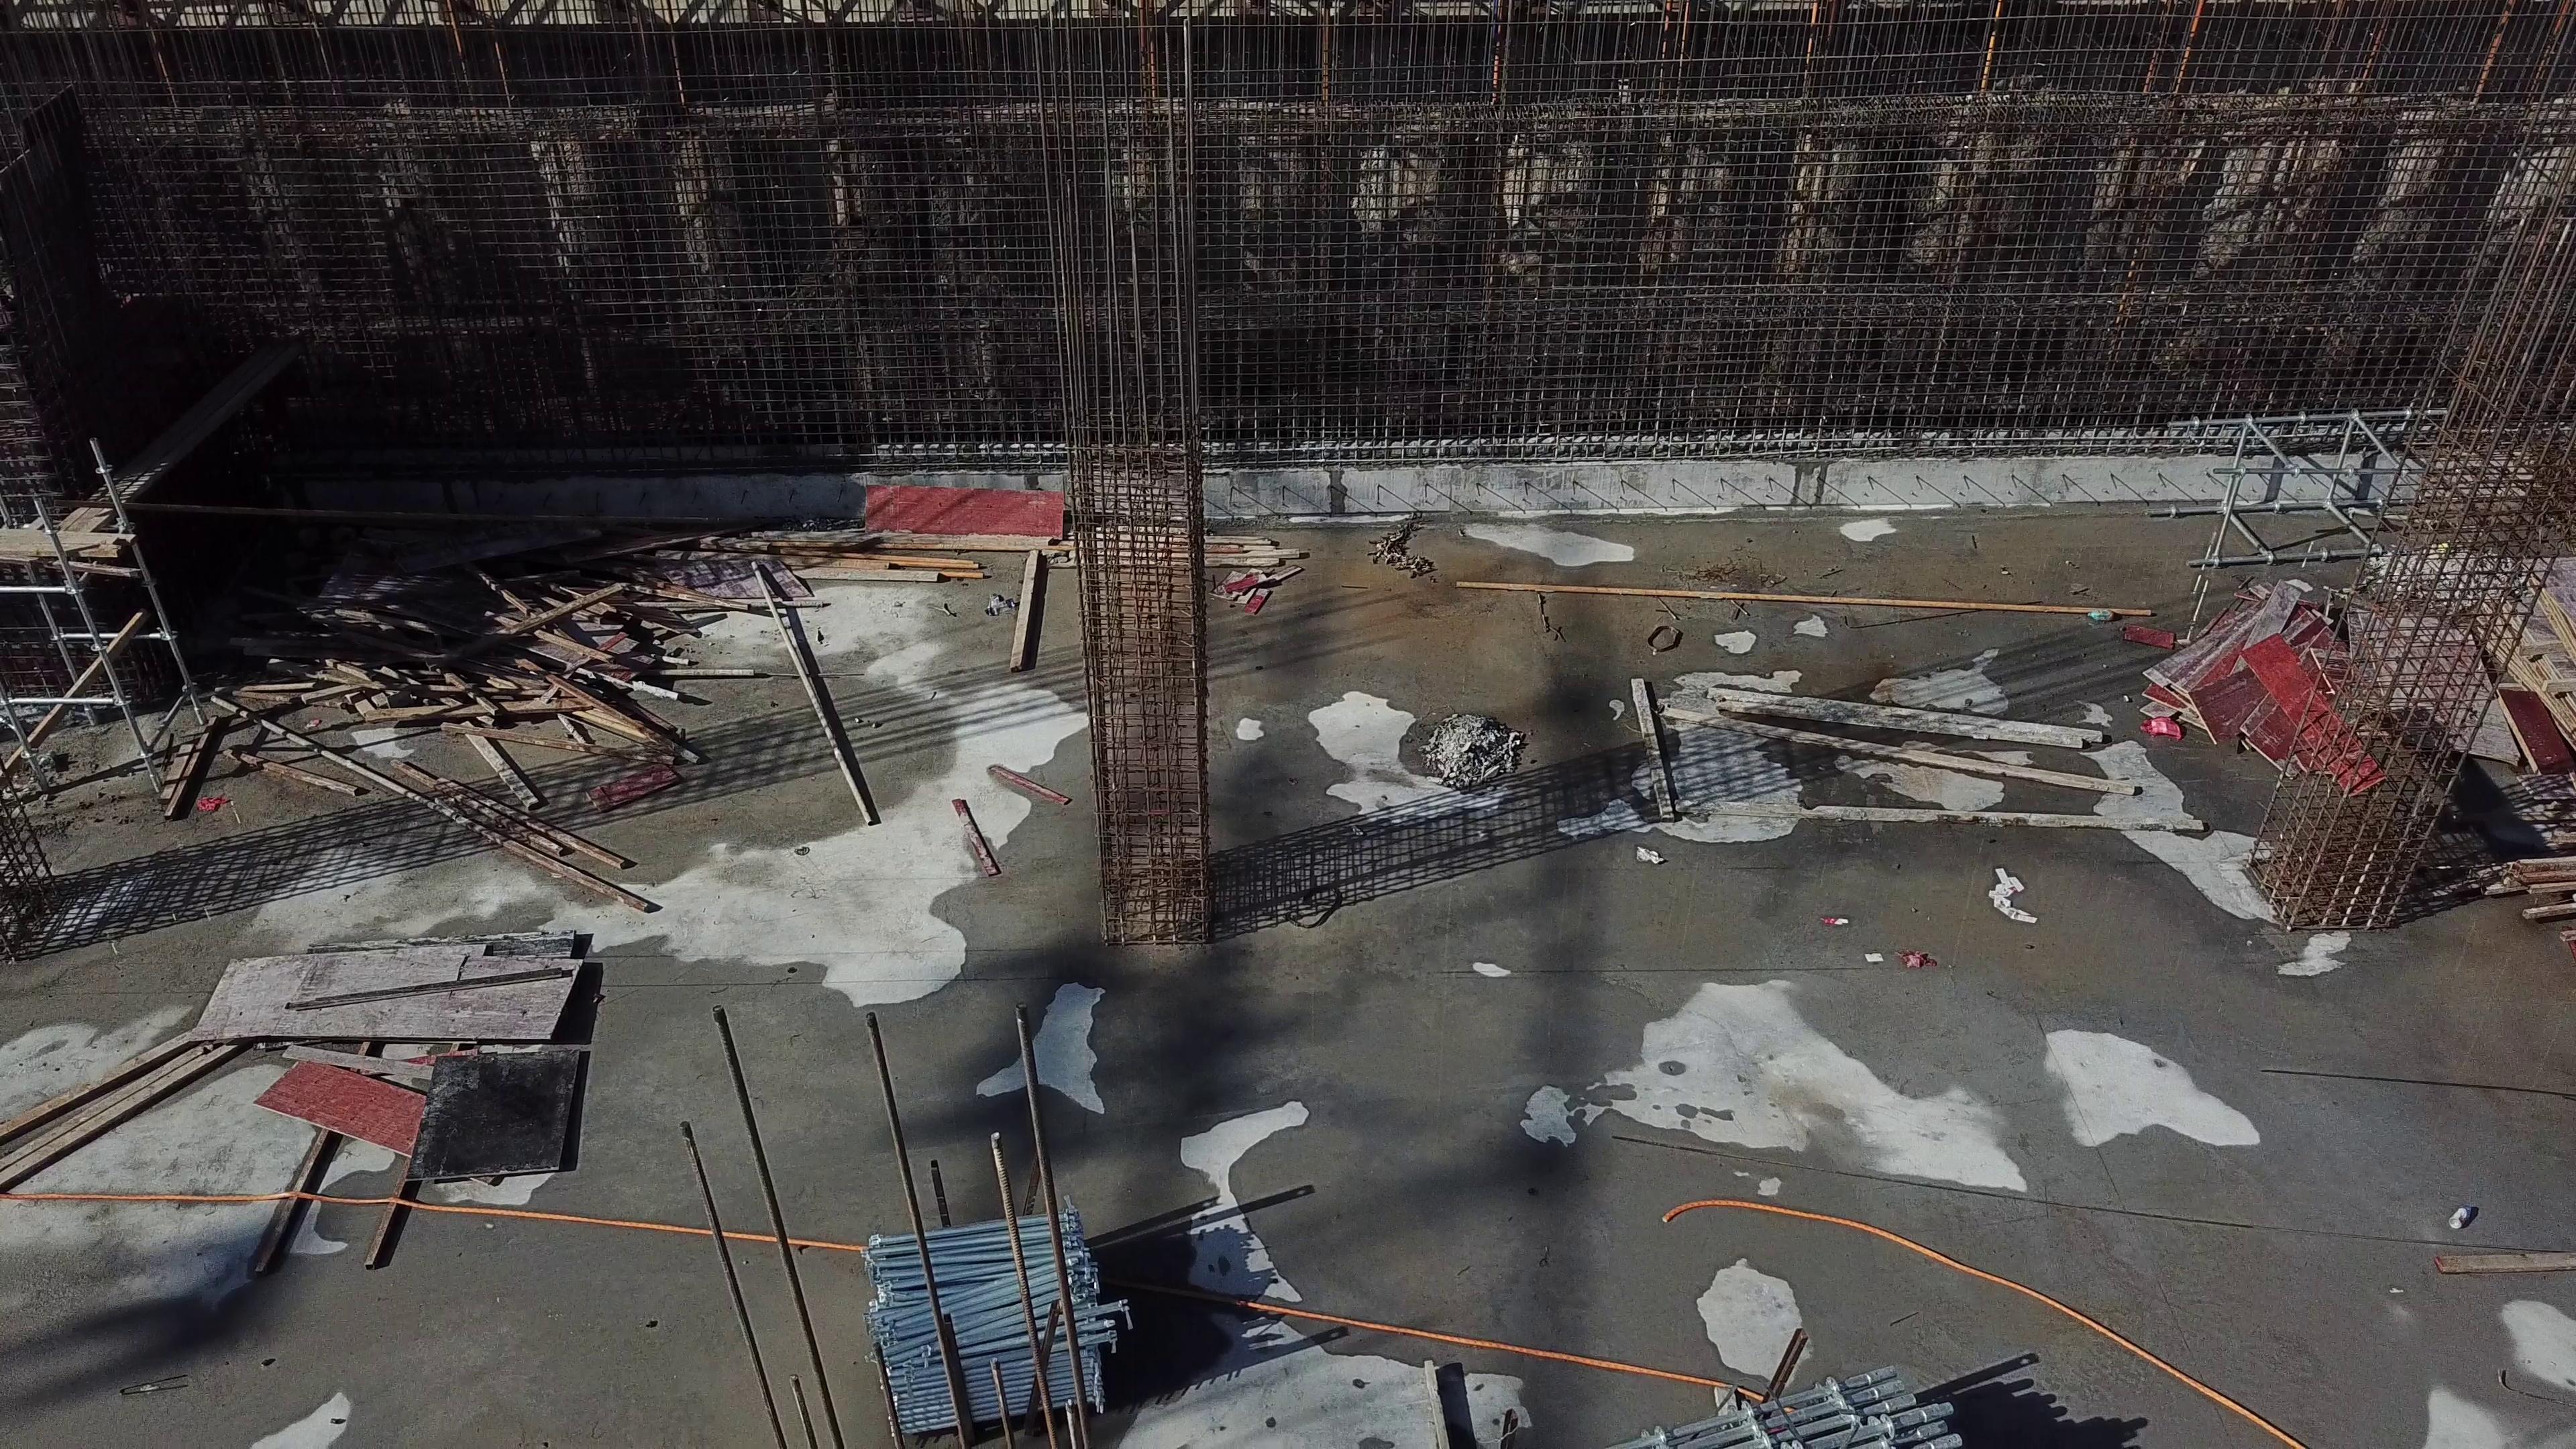scaffold: (865, 1215, 1136, 1433)
